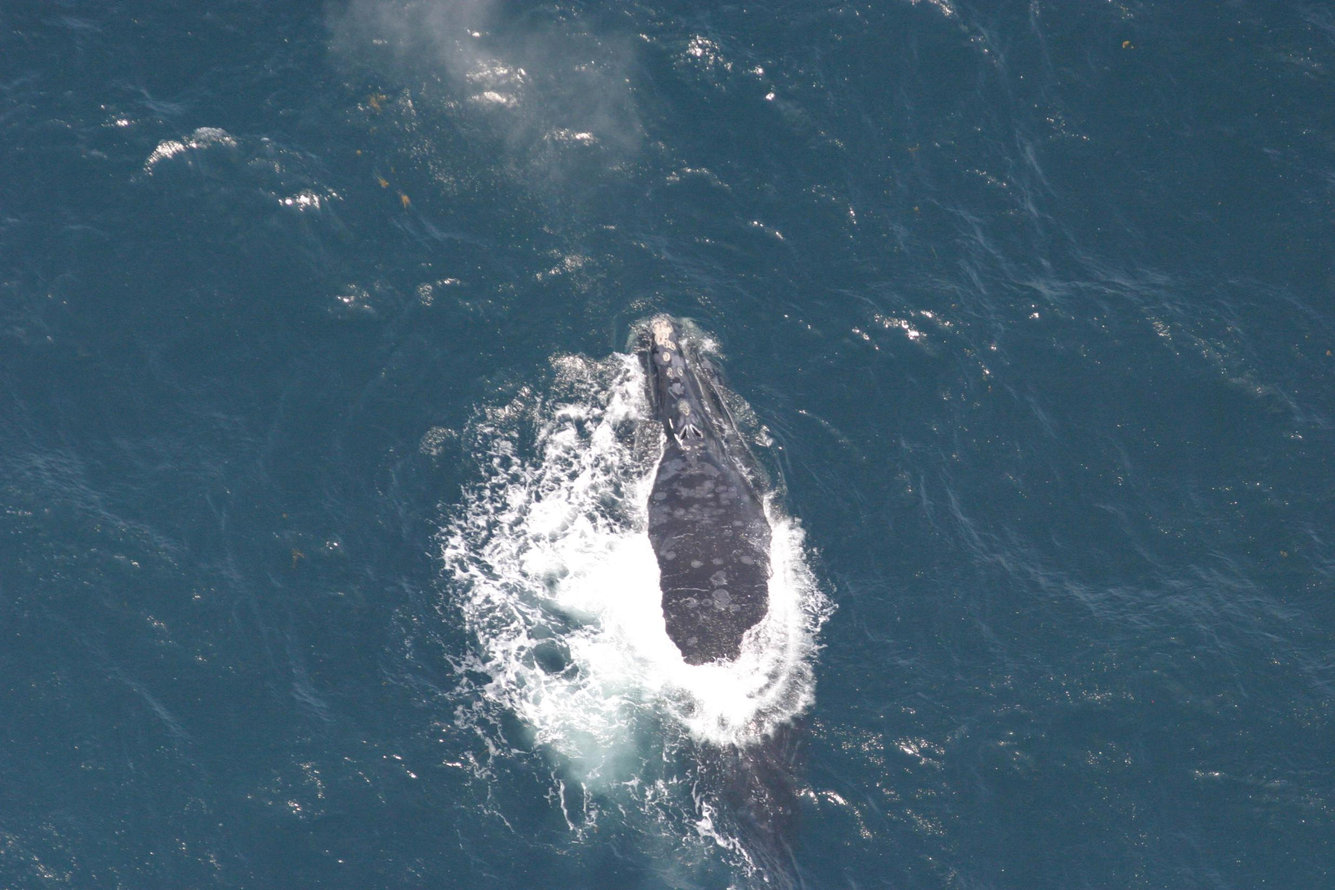whale: (608, 304, 835, 889)
